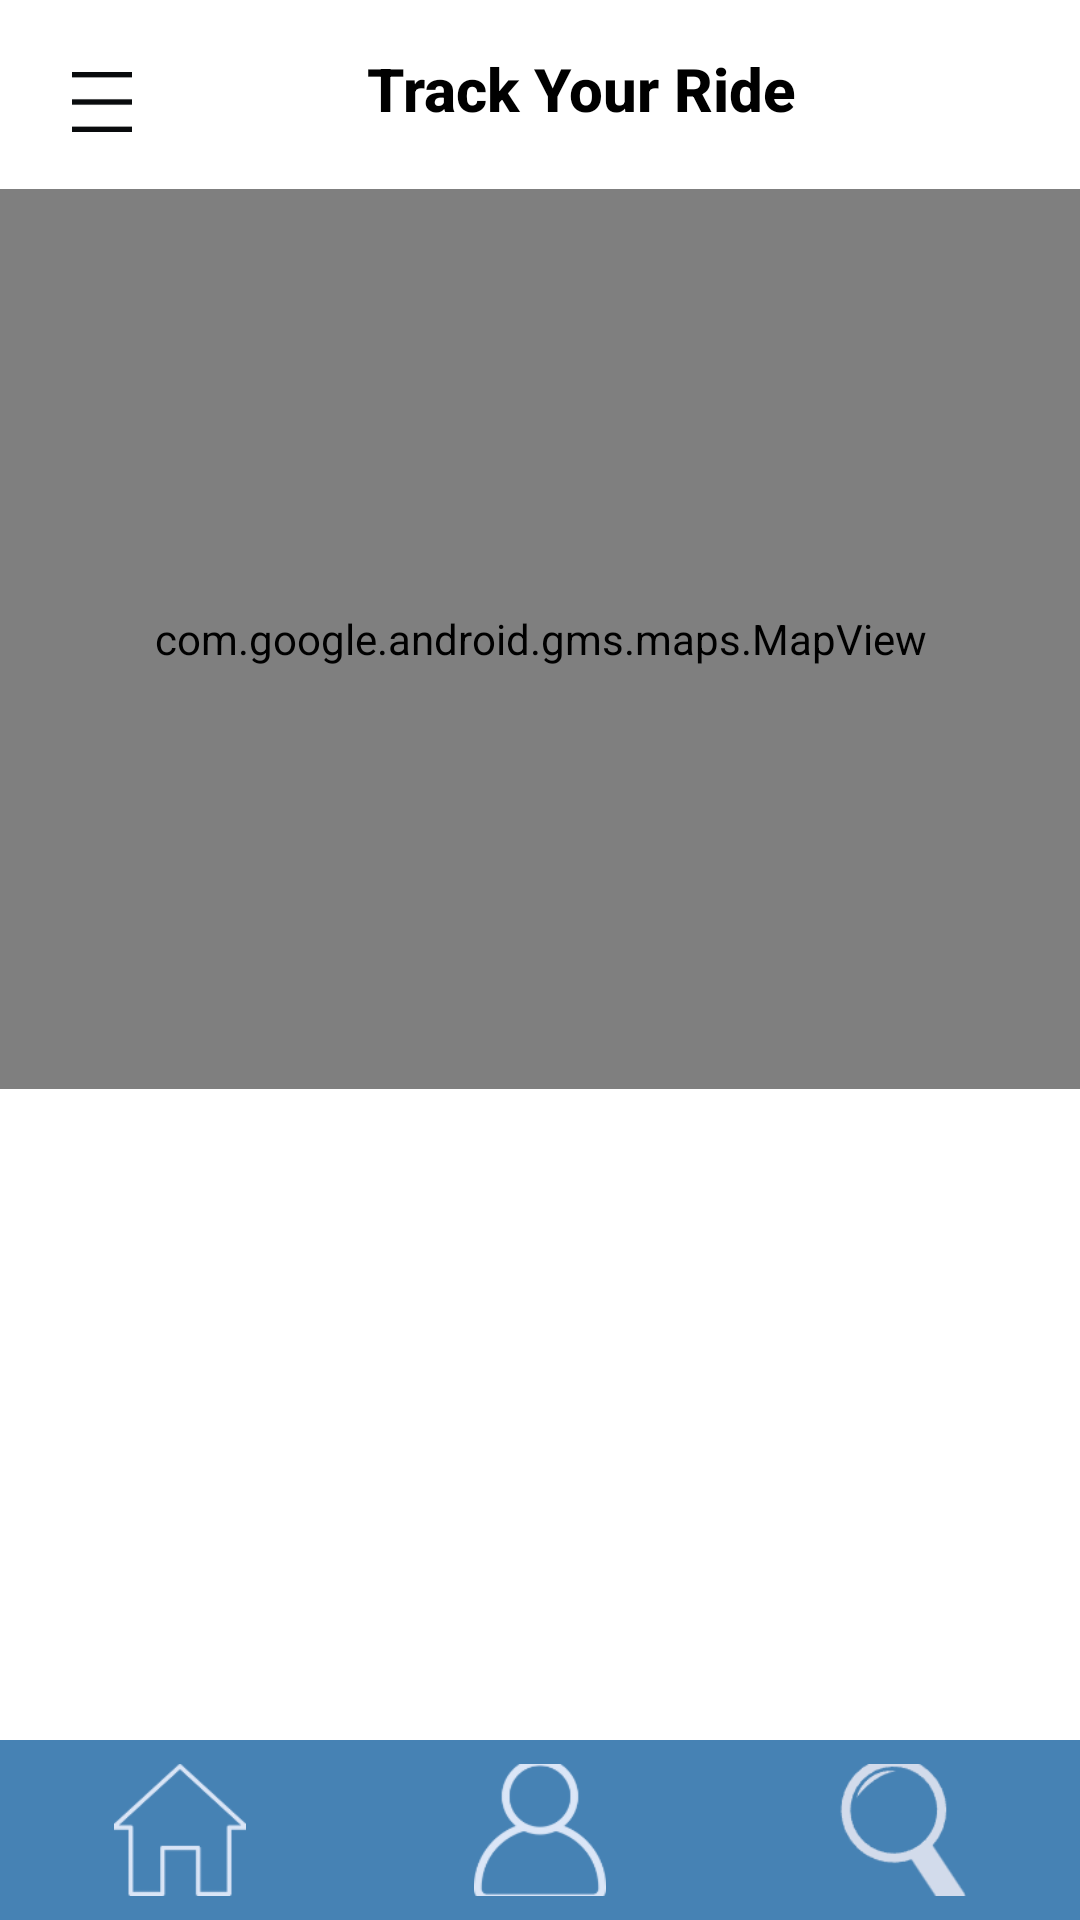

Icon bounding boxes for this 1080 x 1920 phone screenshot, format Rect(x1, y1, x2, y2):
Home Icon: Rect(114, 1764, 246, 1896)
Menu Icon: Rect(72, 72, 132, 132)
Profile Icon: Rect(474, 1764, 606, 1896)
Search Icon: Rect(840, 1764, 966, 1896)
